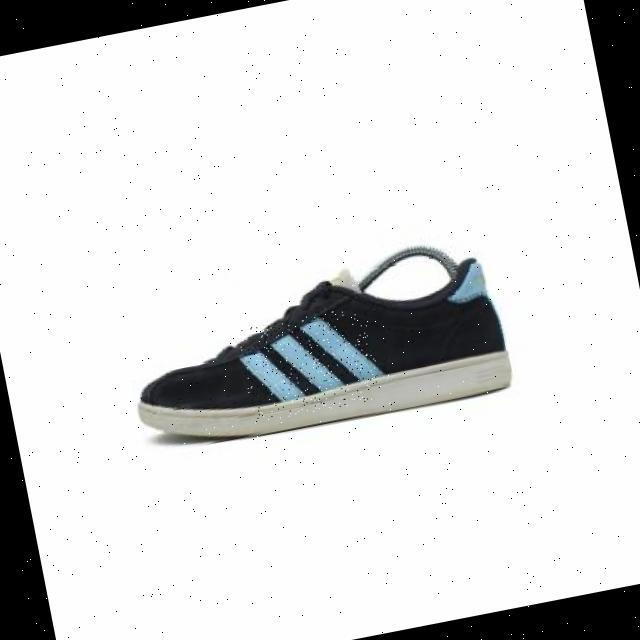Adidas: (237, 306, 384, 425)
